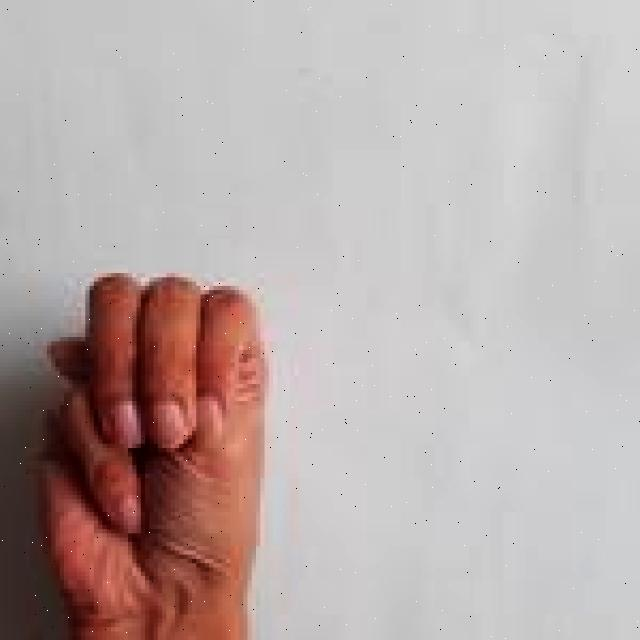M: (36, 265, 276, 640)
